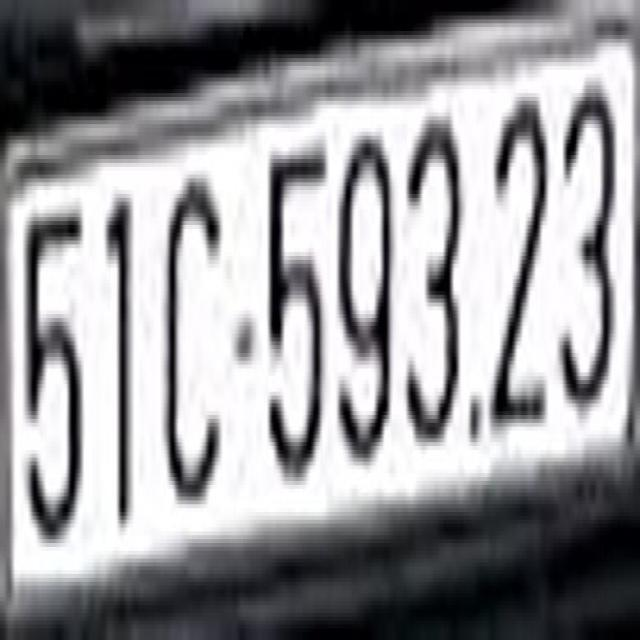1: (99, 171, 142, 544)
2: (490, 89, 554, 442)
3: (401, 97, 464, 450), (558, 70, 620, 423)
5: (17, 198, 88, 551), (262, 128, 330, 481)
9: (336, 109, 394, 462)
C: (160, 151, 223, 512)
